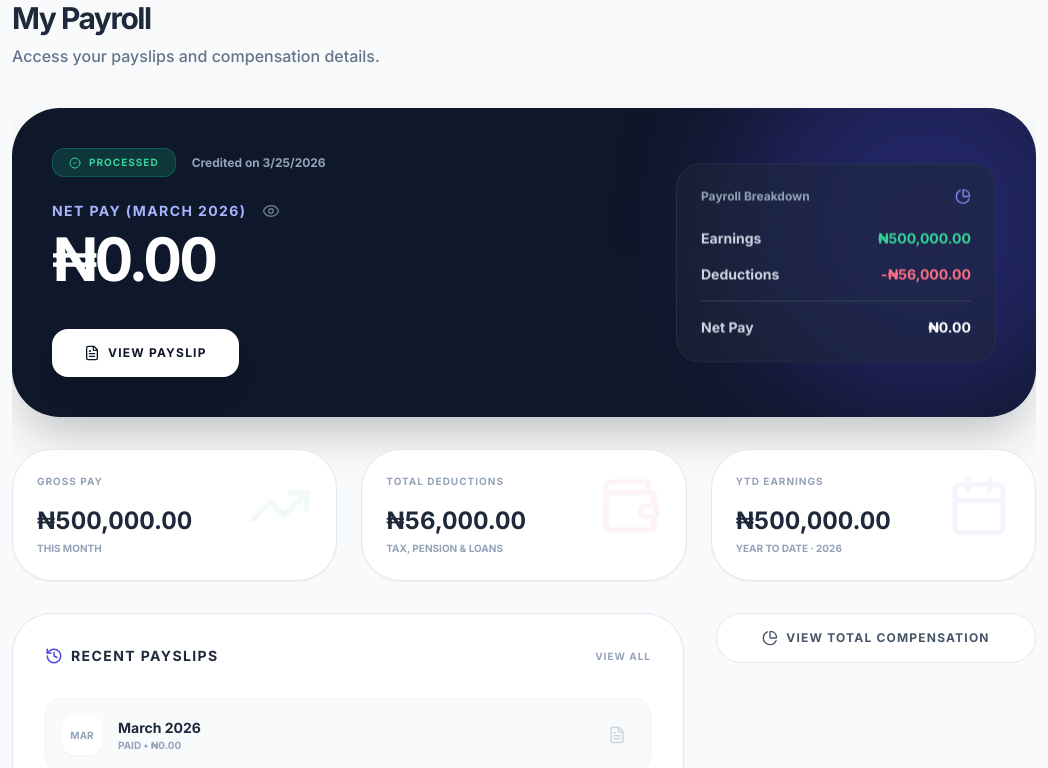
Scenario: MyPayroll › Payslip detail — amount in words › spells 0 as "Zero Naira Only"
This screenshot has width=1048, height=768.
Step 1. Click the button "View Payslip" → point(145, 353), box x1=52 y1=329 x2=239 y2=377
(page scrolled)
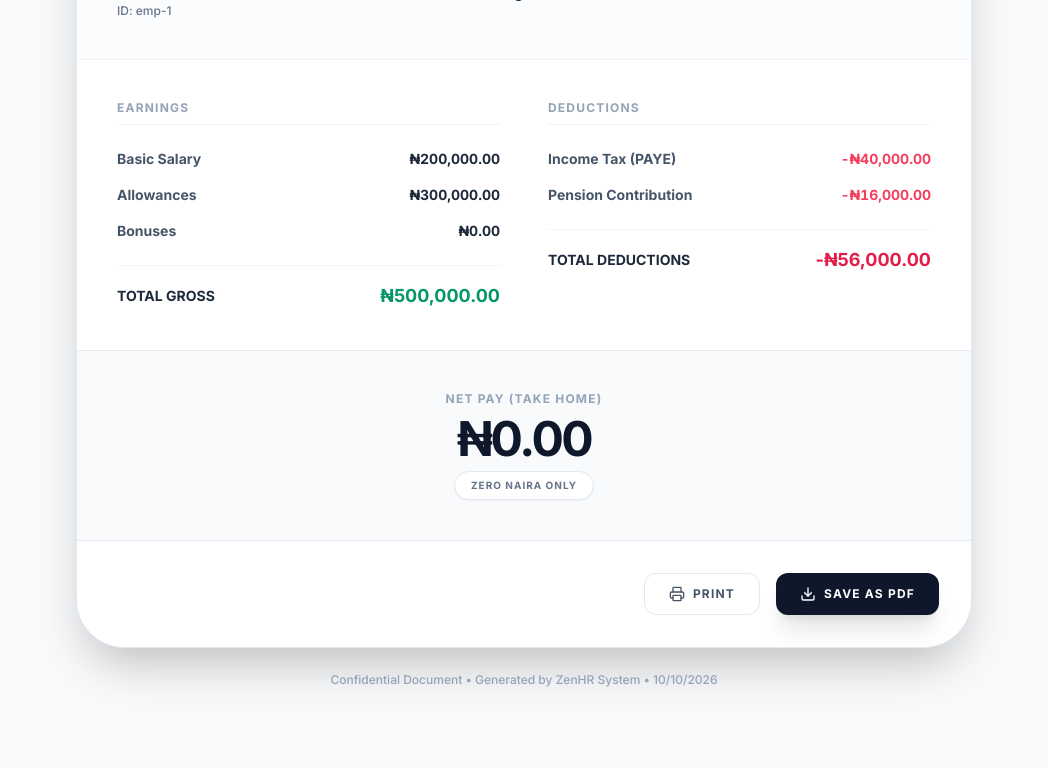
Expected: the text "Zero Naira Only" is shown, x1=454 y1=471 x2=594 y2=500
